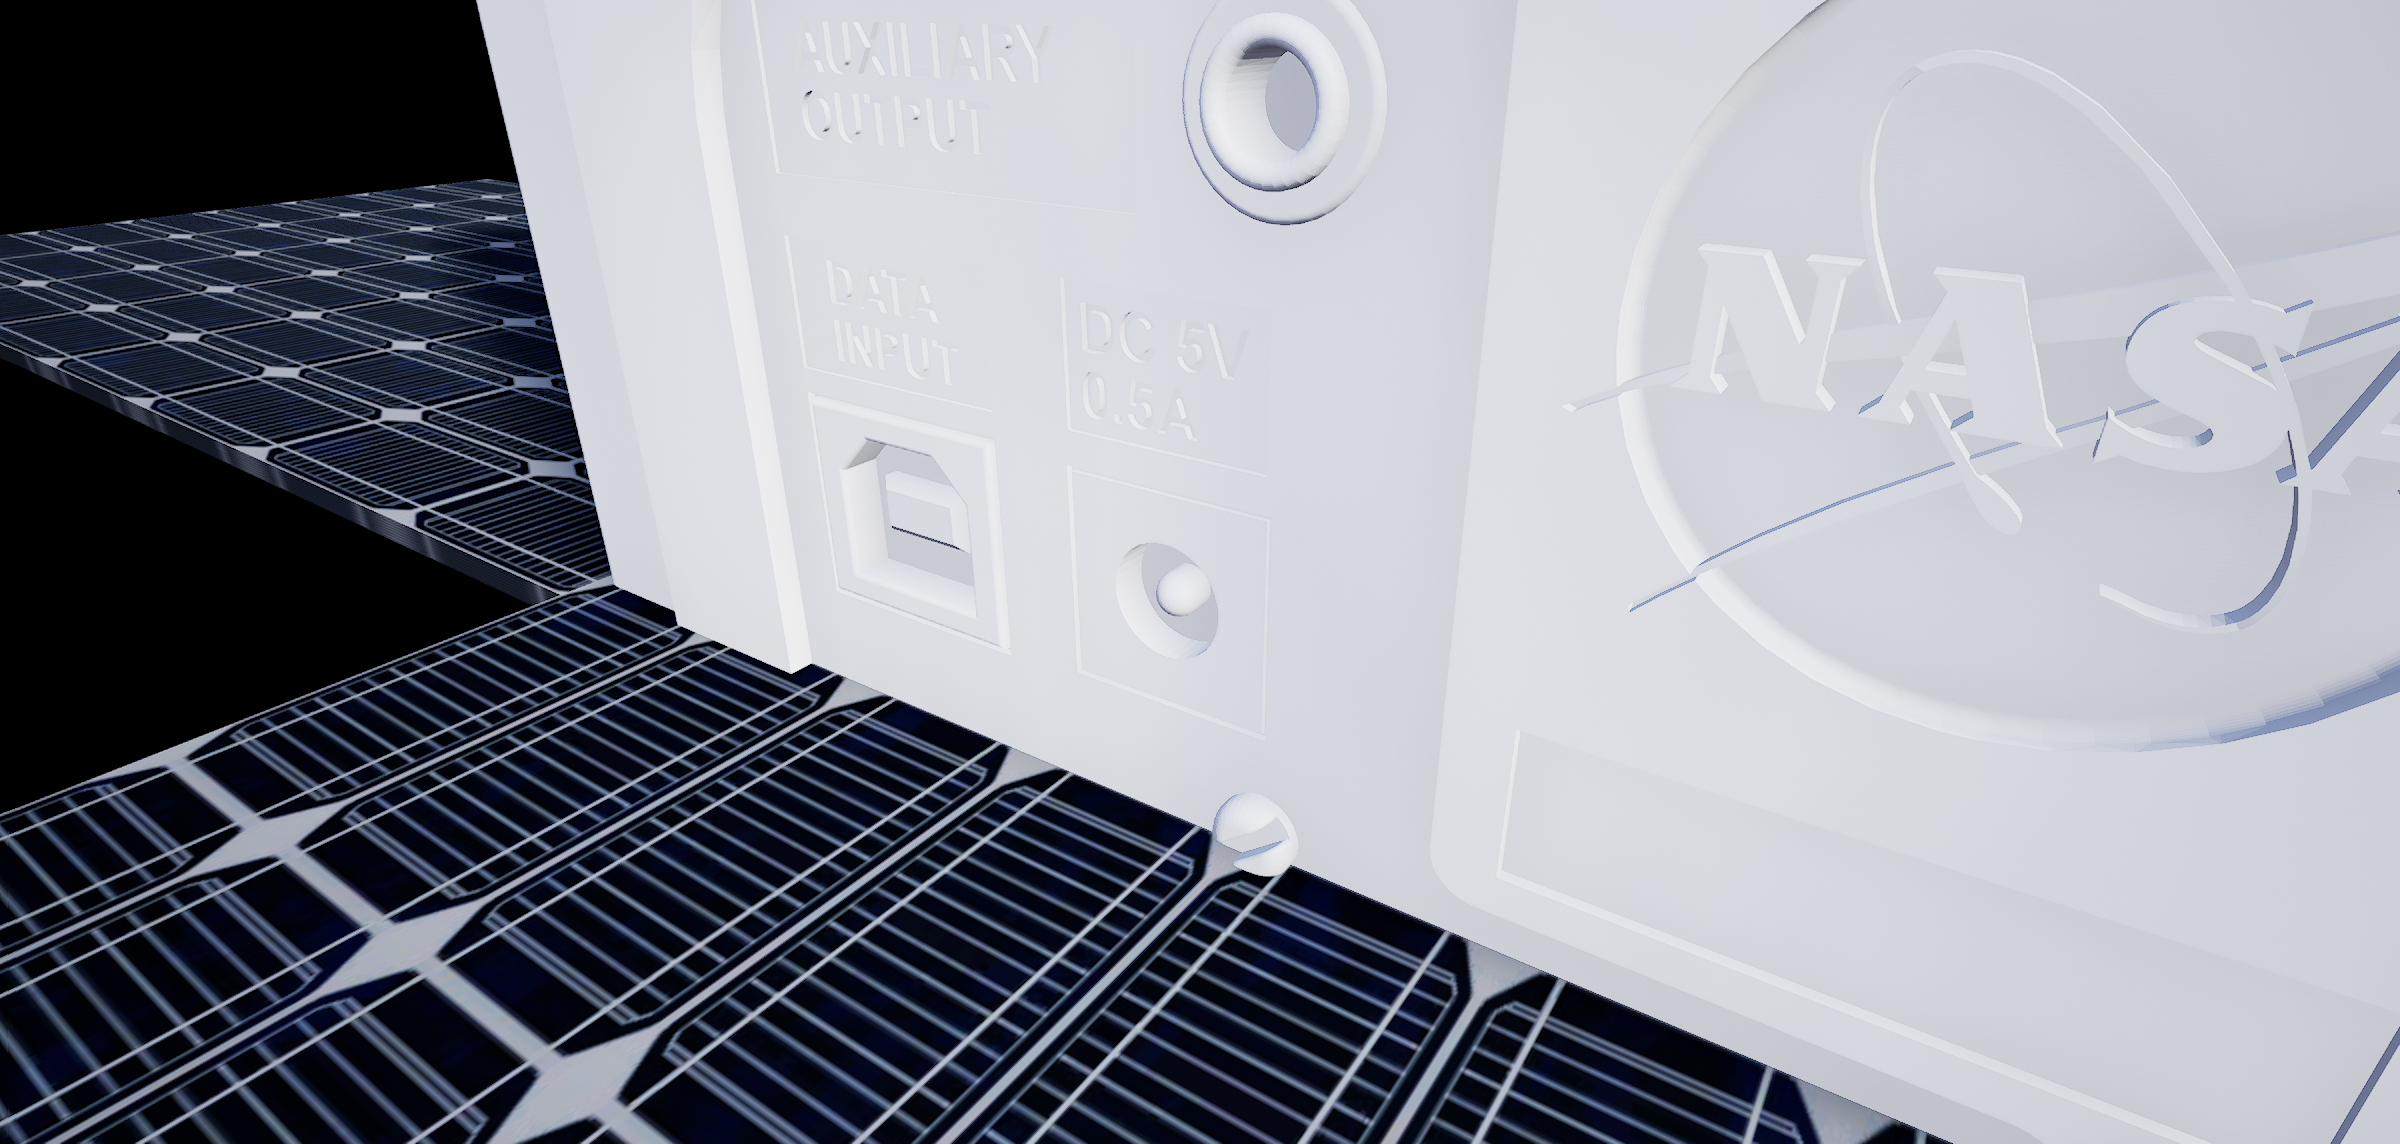aux: (1159, 2, 1396, 239)
dc: (1093, 531, 1251, 681)
usb: (823, 424, 990, 632)
